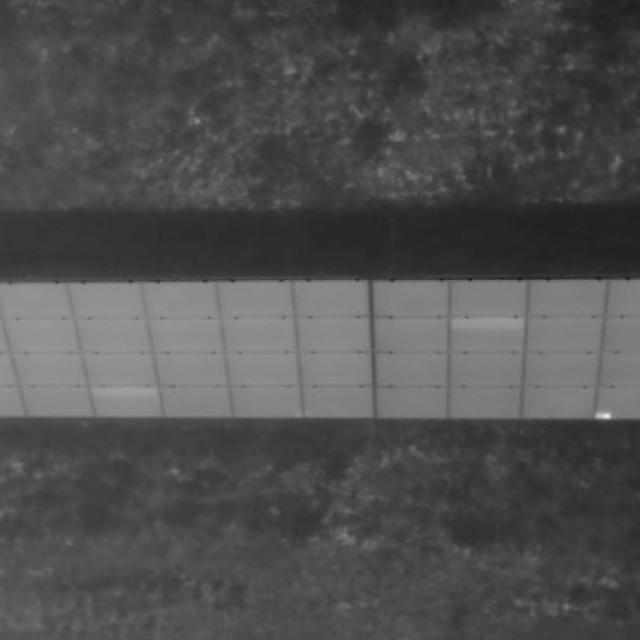Hotspot: (596, 411, 614, 421)
Line Fault: (447, 313, 529, 334), (86, 383, 162, 400)
Panel: (0, 283, 639, 419)
